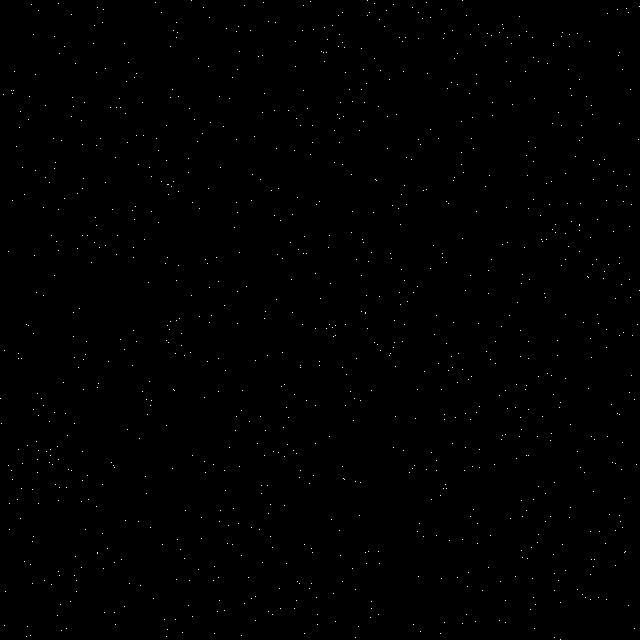Ograniczenie predkosci do 120: (103, 98, 534, 567)
